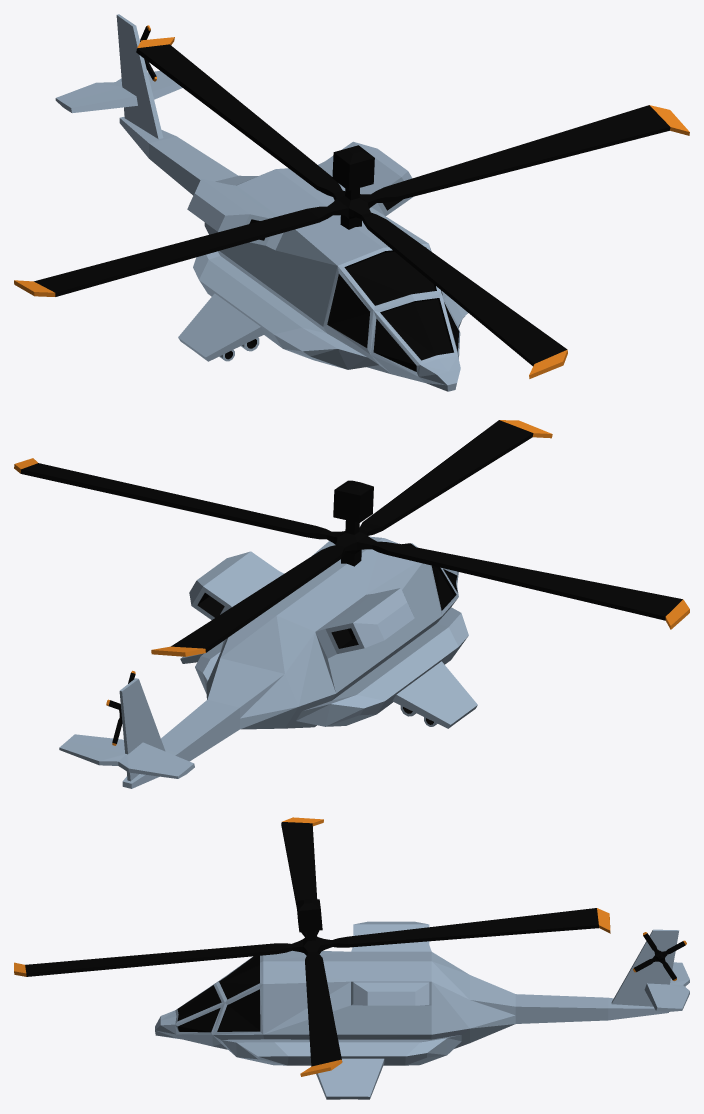
Rendered from Helecopter 1.fbx.
The picture shows the model from 3 angles, top to bottom: view 1: azimuth 30°, elevation 25°; view 2: azimuth 150°, elevation 25°; view 3: azimuth 270°, elevation 25°; orthographic projection. The views are drawn at different scales.
Parts seen in each view (by area): view 1: Base, Heli; view 2: Base, Heli; view 3: Base, Heli, Tail.
Boxes of the visible parts, x1,y1,x2,y2 form: Base: (55, 14, 467, 391); Heli: (14, 37, 689, 378); Base: (59, 536, 477, 788); Heli: (14, 420, 689, 656); Base: (155, 921, 689, 1099); Heli: (14, 817, 610, 1076); Tail: (633, 932, 686, 980).
Bounding box in the file's own units: 1252 × 347 × 1416.
3 materials, 3 textured.
